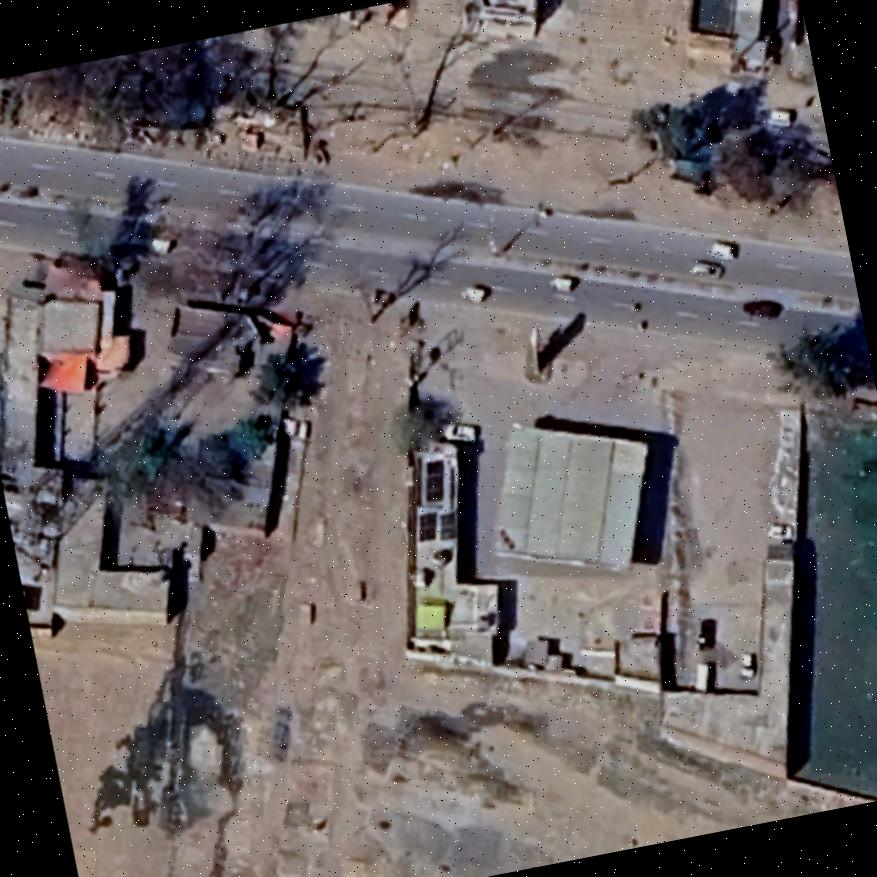Solarpanel: (413, 452, 455, 507), (410, 506, 444, 546), (434, 506, 464, 543)
